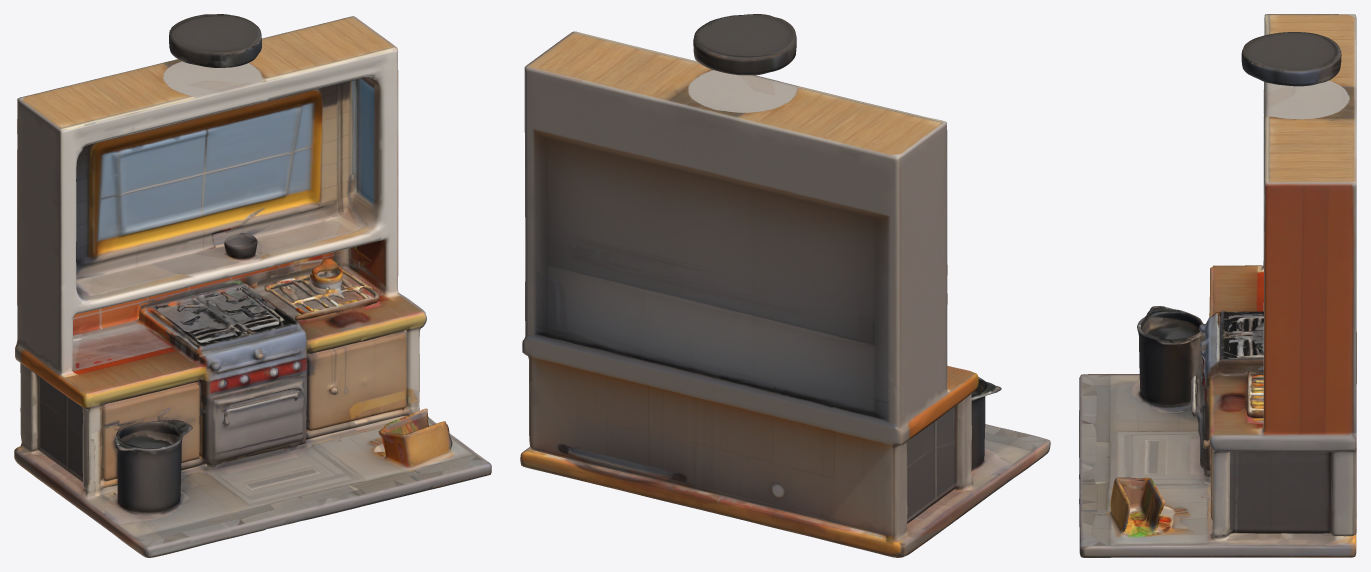
File: make_a_low_poly_fast__0903060245_refine.fbx
3 views of the same model, side by side, from view 1: azimuth 30°, elevation 25°; view 2: azimuth 150°, elevation 25°; view 3: azimuth 270°, elevation 25° (orthographic). The views are drawn at different scales.
Parts seen in each view (by area): view 1: Mesh_0; view 2: Mesh_0; view 3: Mesh_0.
Part boxes in pixels (<box>): Mesh_0: <box>14,14,491,557</box>; Mesh_0: <box>520,14,1050,557</box>; Mesh_0: <box>1079,14,1356,557</box>.
Bounding box in the file's own units: 177 × 200 × 120.
Materials: 1 (1 with a texture image).
